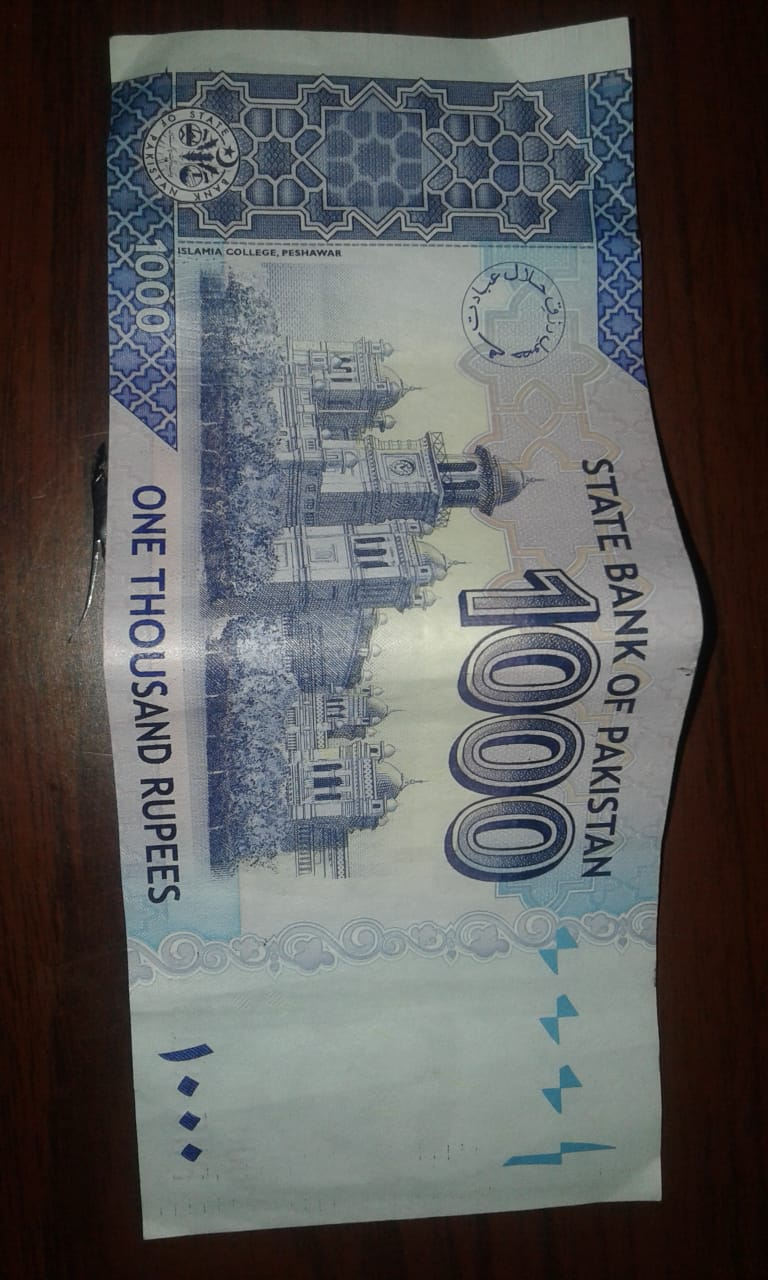1000 rupee: (65, 19, 703, 1264)
